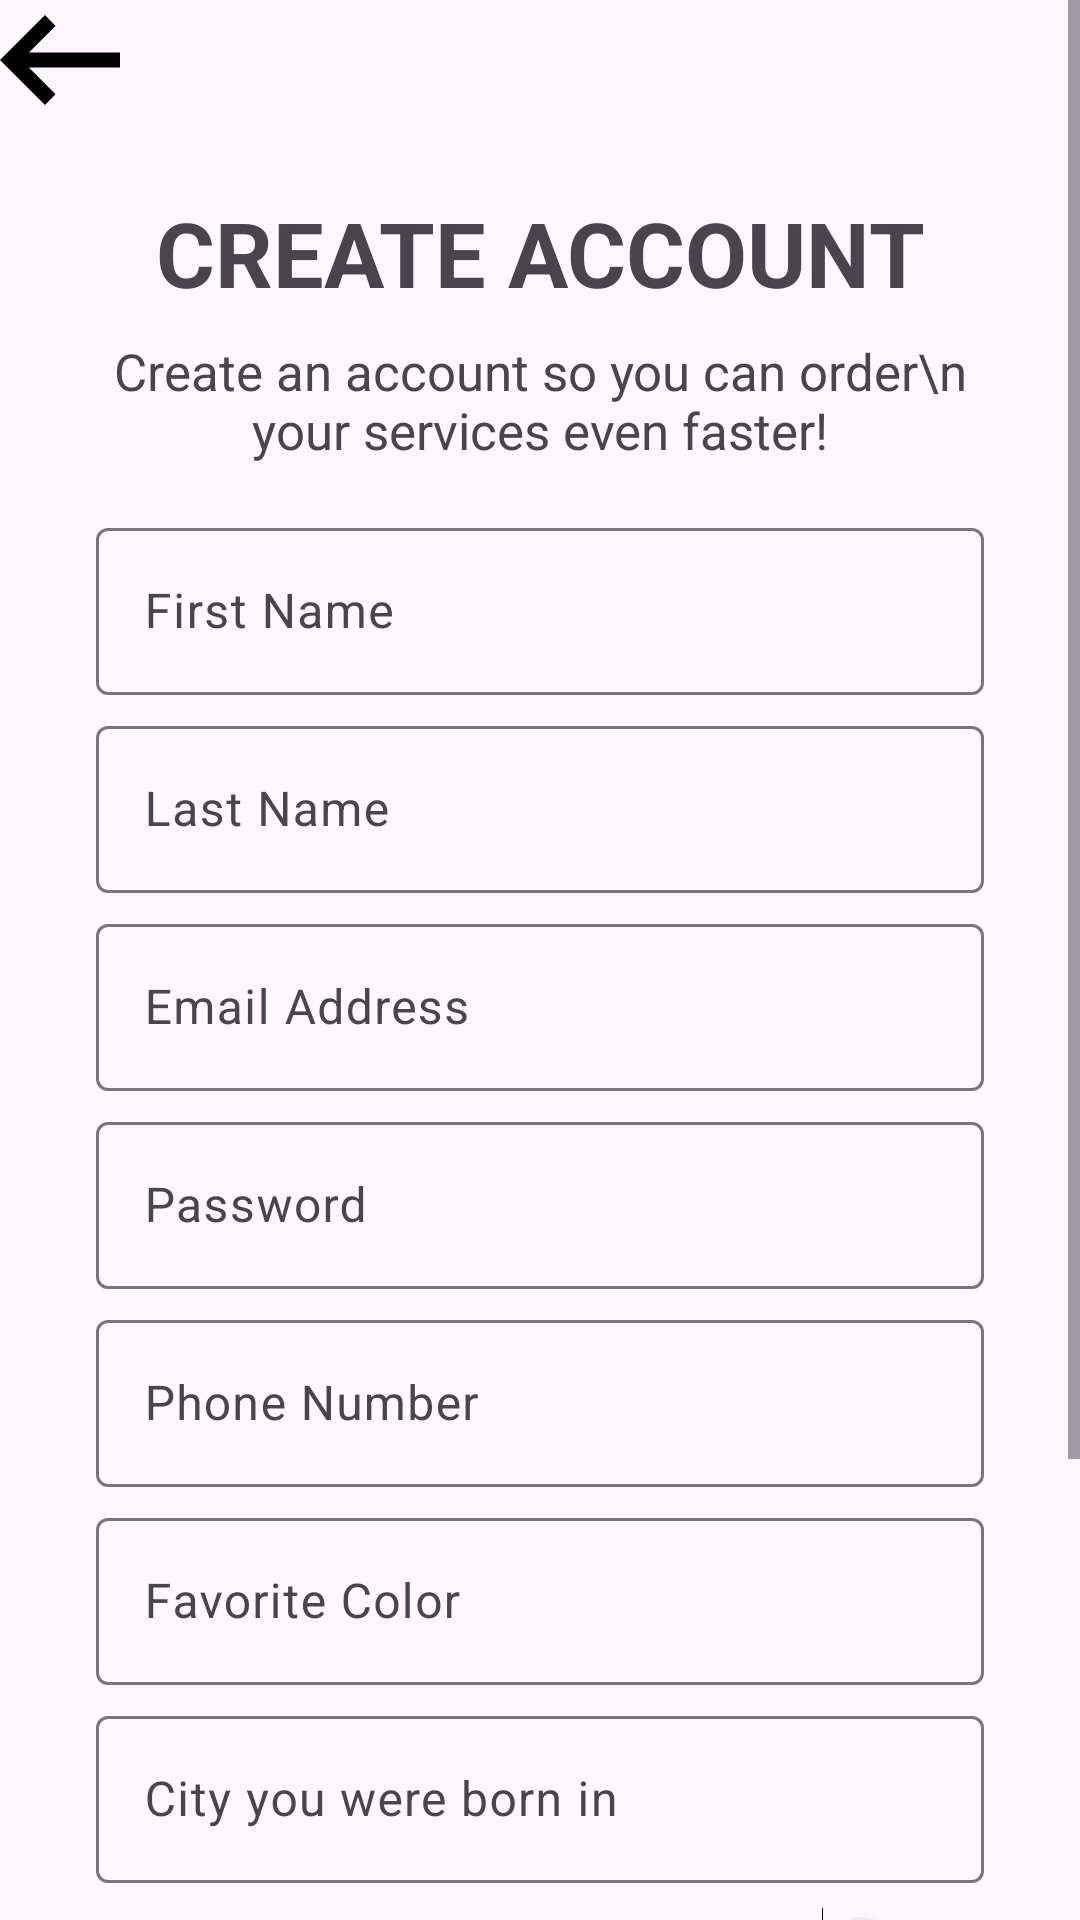

Icons on this 1080 × 1920 Android screen, each with its box as (x1,y1,x2,y2):
Back: (0,15,120,105)
